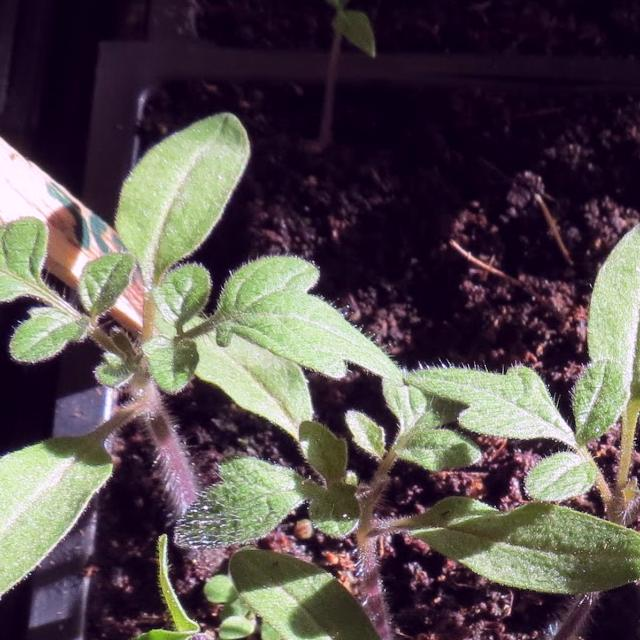Tomato leaf: (107, 85, 253, 309), (209, 253, 416, 402), (0, 416, 98, 640), (0, 211, 142, 355), (579, 185, 640, 430), (228, 555, 402, 640), (623, 537, 640, 640)
